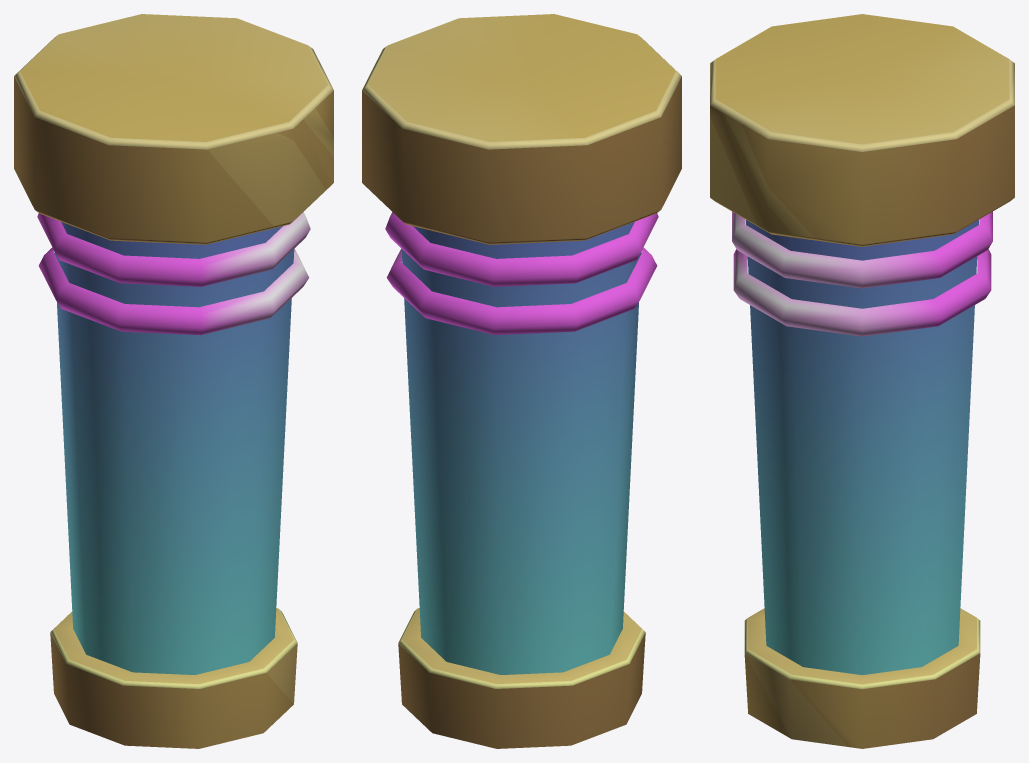
The model's file is DJStagePillar.glb.
3 views of the same model, side by side, from view 1: azimuth 30°, elevation 25°; view 2: azimuth 150°, elevation 25°; view 3: azimuth 270°, elevation 25° (orthographic).
Visible parts, largest first — view 1: DJStagePillar; view 2: DJStagePillar; view 3: DJStagePillar.
Part boxes in pixels (box(x1,y1,x2,y2)): DJStagePillar: box(14, 14, 333, 748); DJStagePillar: box(362, 14, 681, 748); DJStagePillar: box(710, 14, 1014, 748).
Size of the model in its own units: 0.8687 by 1.85 by 0.8262.
